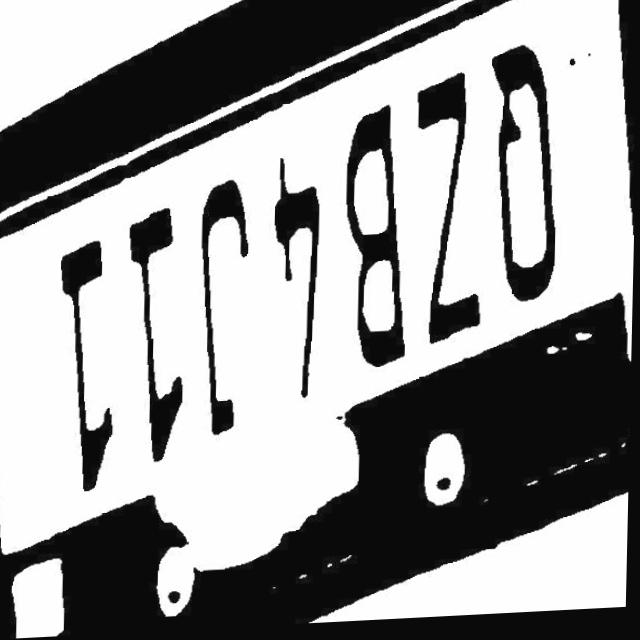1: (43, 217, 127, 497), (115, 193, 195, 480)
4: (259, 128, 333, 411)
b: (337, 99, 413, 388)
j: (184, 162, 262, 448)
q: (488, 33, 571, 322)
z: (405, 74, 492, 360)
